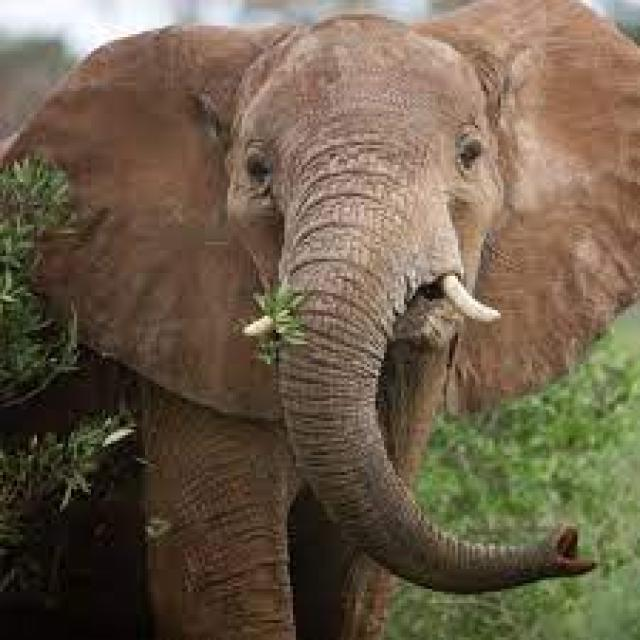Herbivorous: (0, 0, 640, 640)
